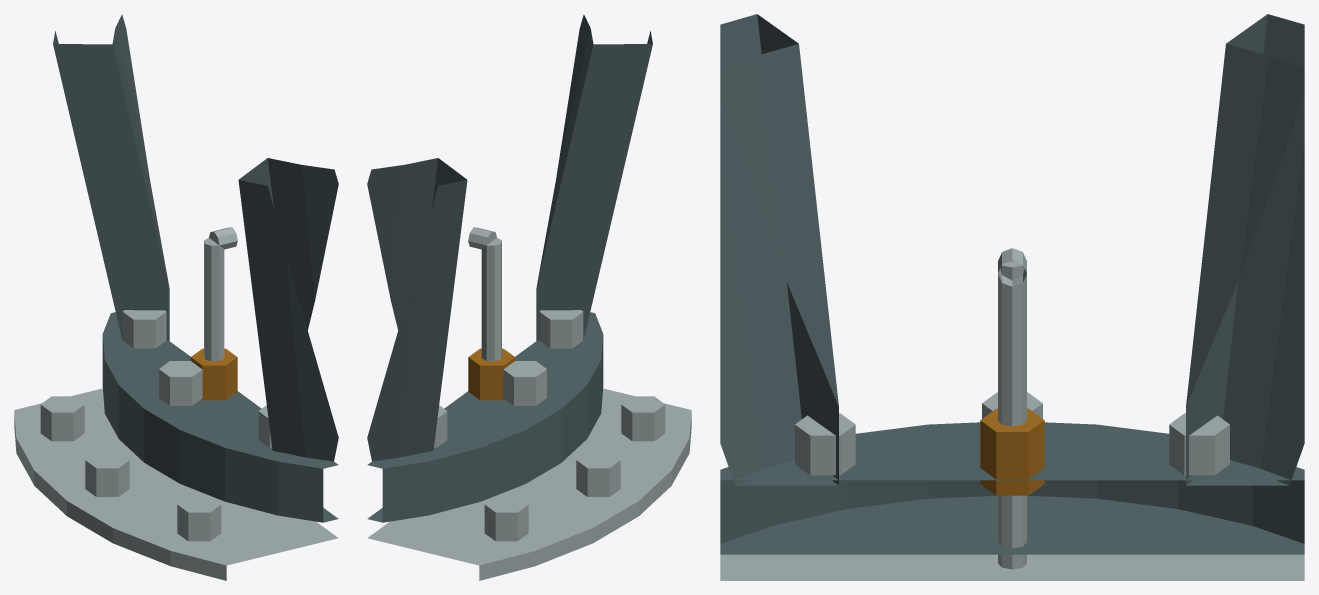
Rendered from cell_21.obj.
The picture shows the model from 3 angles, left to right: view 1: azimuth 30°, elevation 25°; view 2: azimuth 150°, elevation 25°; view 3: azimuth 270°, elevation 25°; orthographic projection. The views are drawn at different scales.
Size of the model in its own units: 0.45 by 1 by 1.
